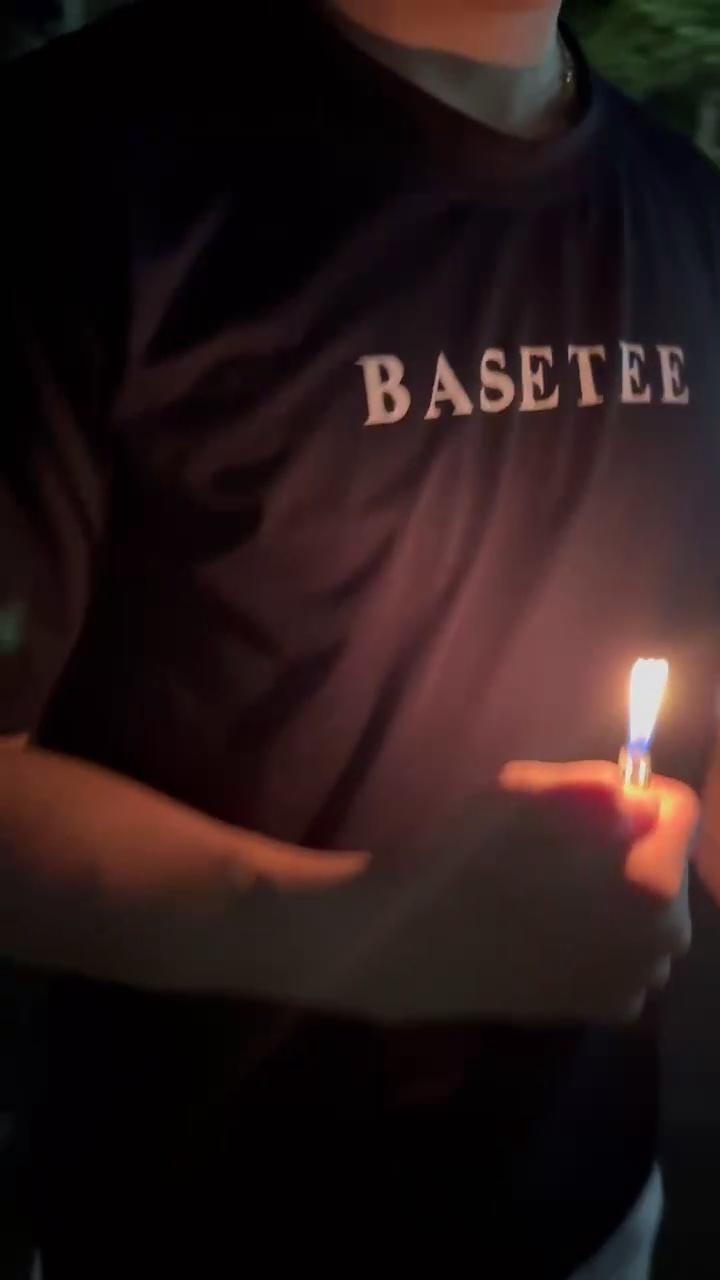Fire: (602, 645, 708, 742)
